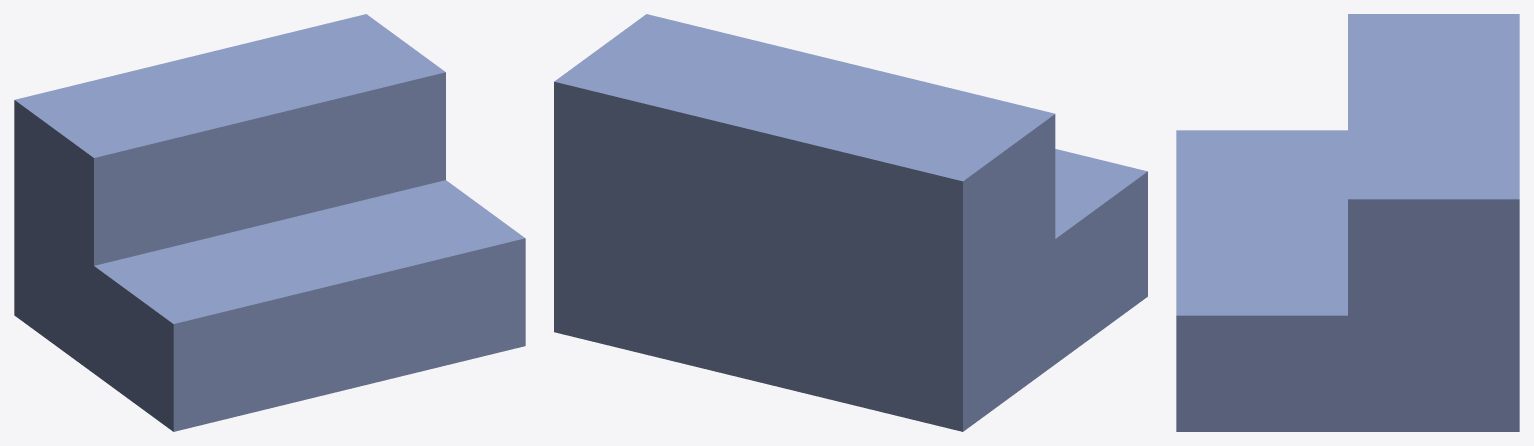
The model's file is stool.fbx.
3 views of the same model, side by side, from view 1: azimuth 30°, elevation 25°; view 2: azimuth 150°, elevation 25°; view 3: azimuth 270°, elevation 25° (orthographic). The views are drawn at different scales.
Parts seen in each view (by area): view 1: littlestair; view 2: littlestair; view 3: littlestair.
Boxes of the visible parts, <box> form: littlestair: <box>14,14,525,431</box>; littlestair: <box>554,14,1147,431</box>; littlestair: <box>1176,14,1519,431</box>.
Bounding box in the file's own units: 56.96 × 33.35 × 44.61.
